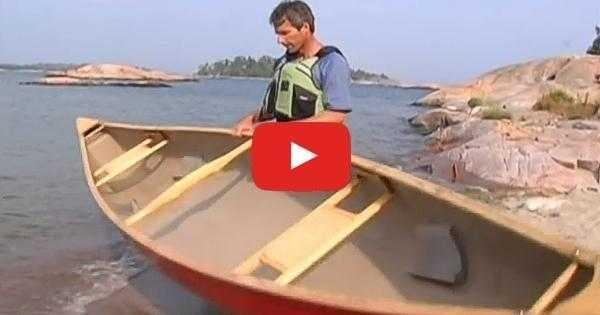kayak: (77, 118, 592, 310)
